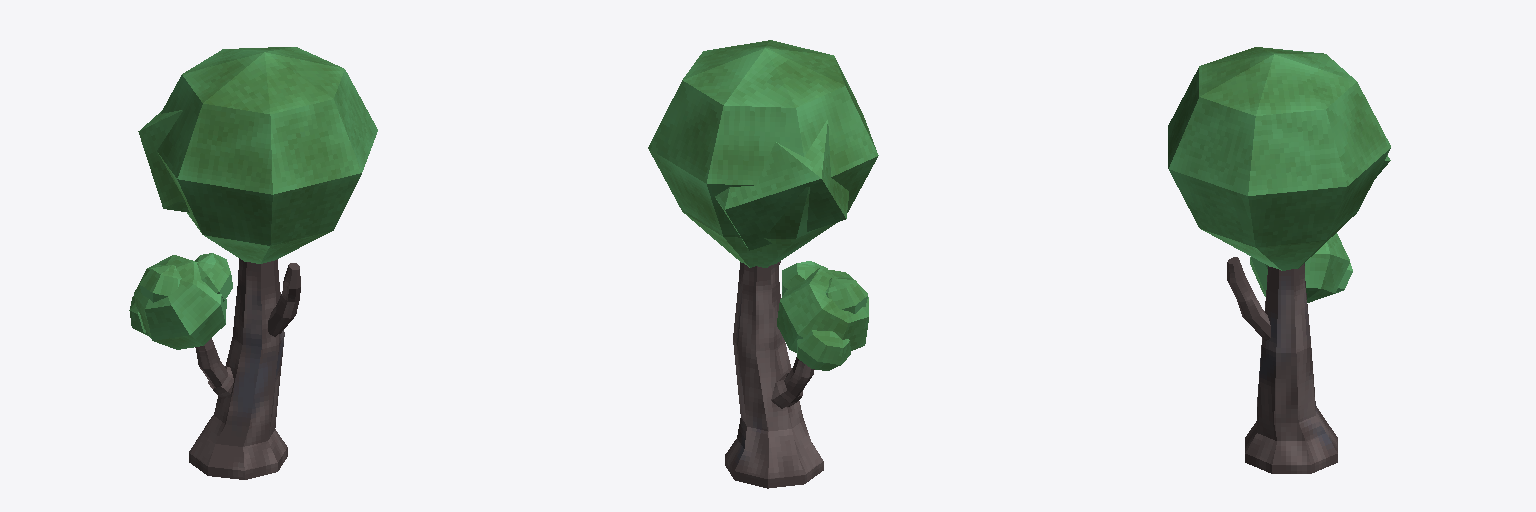
3 views of the same model, side by side, from view 1: azimuth 30°, elevation 25°; view 2: azimuth 150°, elevation 25°; view 3: azimuth 270°, elevation 25° (orthographic).
Parts seen in each view (by area): view 1: sphere, cylinder; view 2: sphere, cylinder; view 3: sphere, cylinder.
Part boxes in pixels (bbox=[...]): sphere: bbox=[129, 47, 377, 349]; cylinder: bbox=[189, 258, 300, 479]; sphere: bbox=[648, 40, 878, 370]; cylinder: bbox=[725, 261, 823, 488]; sphere: bbox=[1168, 47, 1390, 302]; cylinder: bbox=[1227, 257, 1337, 473].
Size of the model in its own units: 0.7477 by 1.38 by 0.68.
Materials: 1 (1 with a texture image).